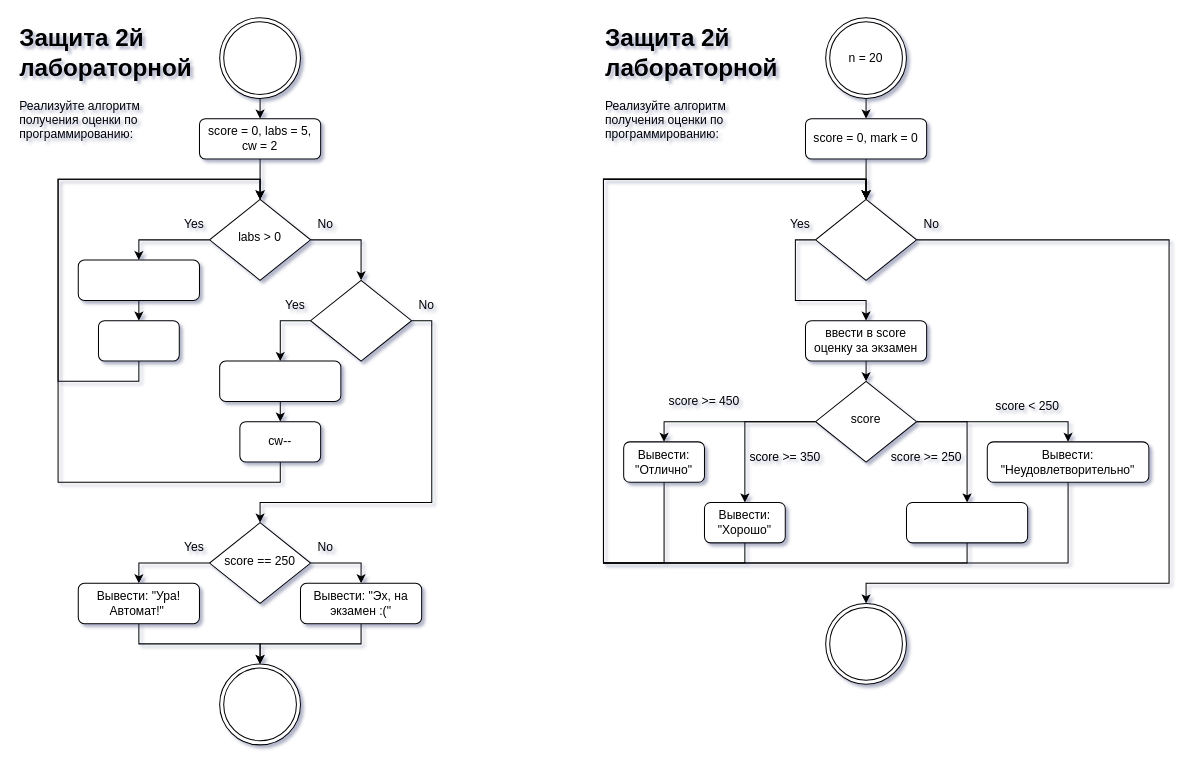
Image size: 1201x769. Some labels were removed from this diagram. The centre of each missing label's shape, as x and y in pixels:
cw > 0: pixel 361 320
labs--: pixel 138 340
n-- > 0: pixel 866 239
Вывести: "Удовлетворительно": pixel 966 522
добавить к score оценку за кр: pixel 280 380
добавить к score оценку за лабу: pixel 138 279
